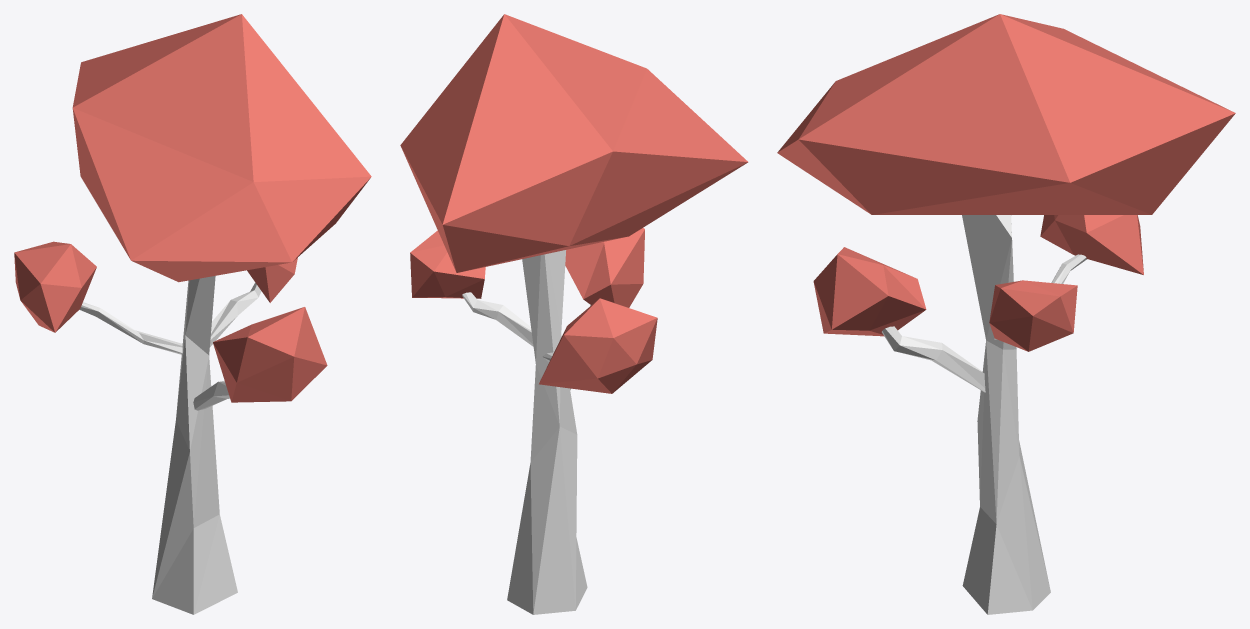
File: Tree_2.glb
3 views of the same model, side by side, from view 1: azimuth 30°, elevation 25°; view 2: azimuth 150°, elevation 25°; view 3: azimuth 270°, elevation 25° (orthographic). The views are drawn at different scales.
Visible parts, largest first — view 1: Sphere.2, Tree_2, Sphere, Sphere.1, Sphere.3; view 2: Sphere.2, Tree_2, Sphere.1, Sphere, Sphere.3; view 3: Sphere.2, Tree_2, Sphere, Sphere.3, Sphere.1.
Boxes of the visible parts, bbox=[...] form: Sphere.2: bbox=[72, 14, 371, 282]; Tree_2: bbox=[79, 276, 261, 614]; Sphere: bbox=[213, 307, 327, 402]; Sphere.1: bbox=[14, 241, 96, 332]; Sphere.3: bbox=[247, 257, 297, 302]; Sphere.2: bbox=[400, 14, 748, 272]; Tree_2: bbox=[462, 250, 590, 614]; Sphere.1: bbox=[539, 298, 657, 393]; Sphere: bbox=[565, 228, 644, 307]; Sphere.3: bbox=[410, 230, 485, 298]; Sphere.2: bbox=[777, 14, 1235, 214]; Tree_2: bbox=[882, 215, 1086, 614]; Sphere: bbox=[813, 247, 926, 336]; Sphere.3: bbox=[989, 280, 1077, 351]; Sphere.1: bbox=[1040, 215, 1143, 274].
Size of the model in its own units: 340 by 739 by 507.
